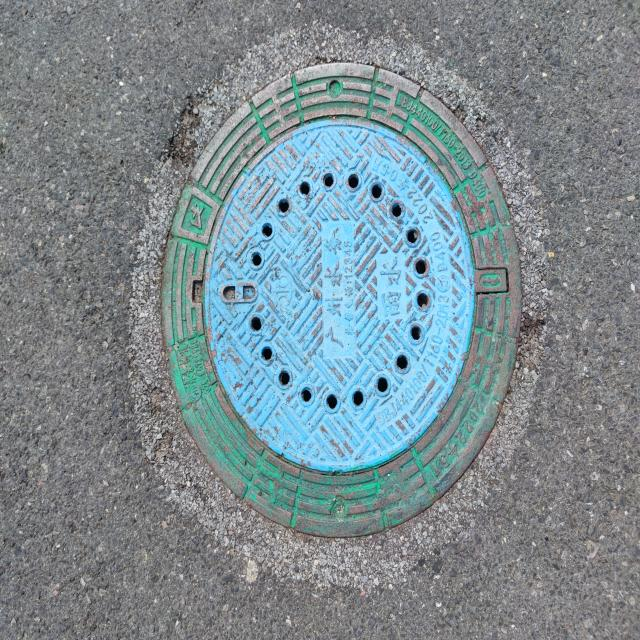Good: (160, 60, 528, 544)
